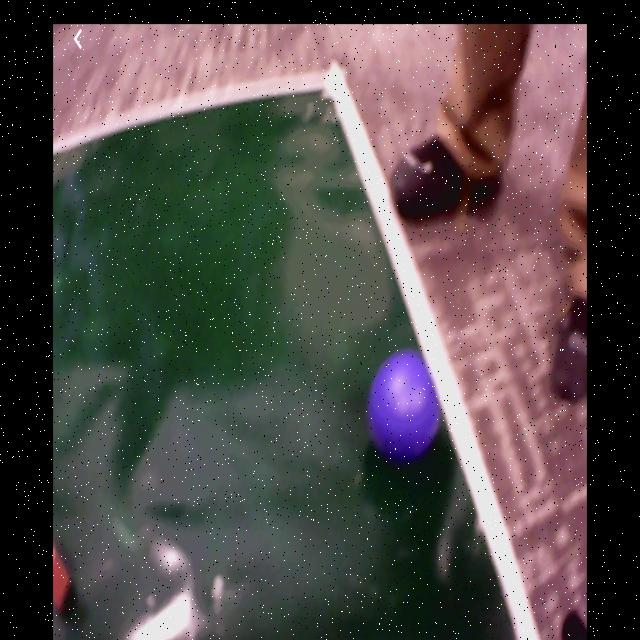ball: (371, 351, 441, 462)
